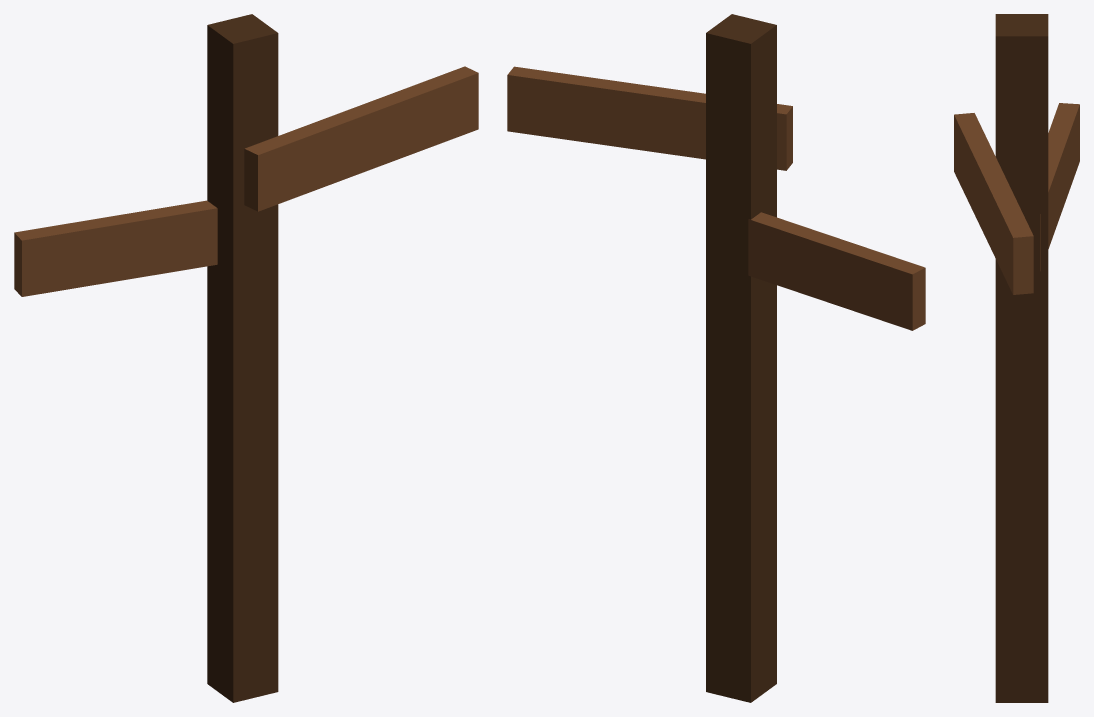
The model's file is signpost_wood.glb.
3 renders of one model, left to right at view 1: azimuth 30°, elevation 25°; view 2: azimuth 150°, elevation 25°; view 3: azimuth 270°, elevation 25°, orthographic.
Visible parts, largest first — view 1: Signpost; view 2: Signpost; view 3: Signpost.
Part boxes in pixels (box(x1,y1,x2,y2)): Signpost: box(14, 14, 478, 702); Signpost: box(507, 14, 925, 702); Signpost: box(954, 14, 1079, 702).
Size of the model in its own units: 1.45 by 2.1 by 0.3595.
